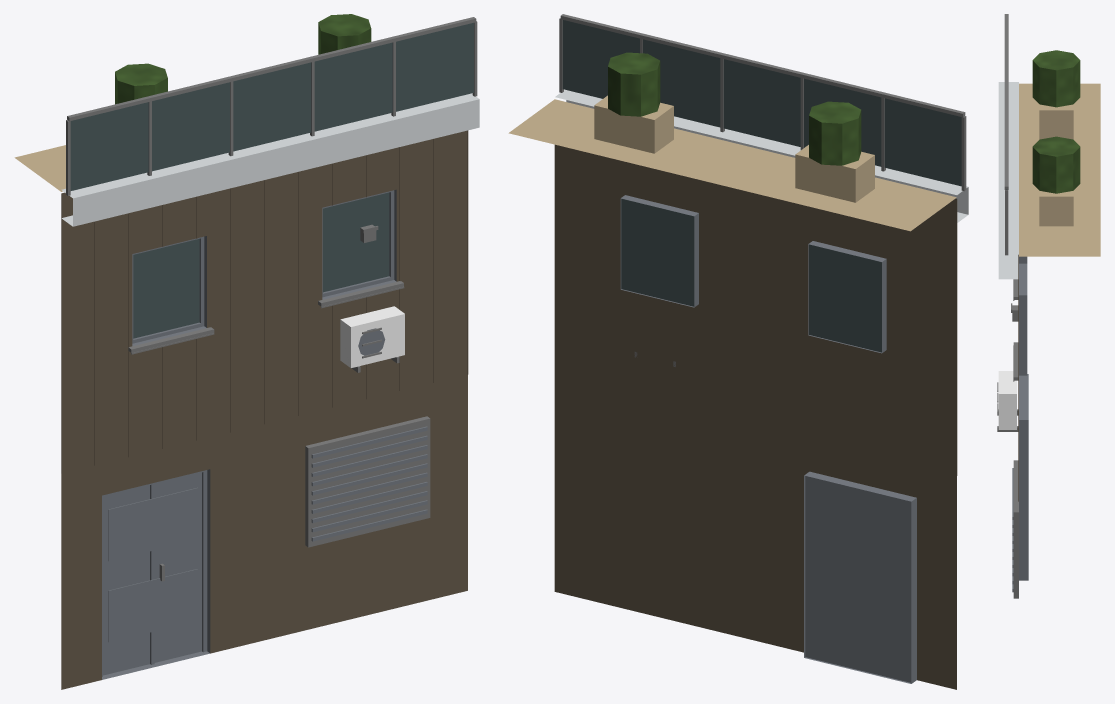
Rendered from base-w3_close.fbx.
3 renders of one model, left to right at view 1: azimuth 30°, elevation 25°; view 2: azimuth 150°, elevation 25°; view 3: azimuth 270°, elevation 25°, orthographic. The views are drawn at different scales.
Visible parts, largest first — view 1: a2010/0/base-w3_close; view 2: a2010/0/base-w3_close; view 3: a2010/0/base-w3_close.
Part boxes in pixels (<box>): a2010/0/base-w3_close: <box>14,14,479,689</box>; a2010/0/base-w3_close: <box>508,14,968,689</box>; a2010/0/base-w3_close: <box>997,14,1100,598</box>.
Size of the model in its own units: 6.04 by 8.15 by 1.52.
